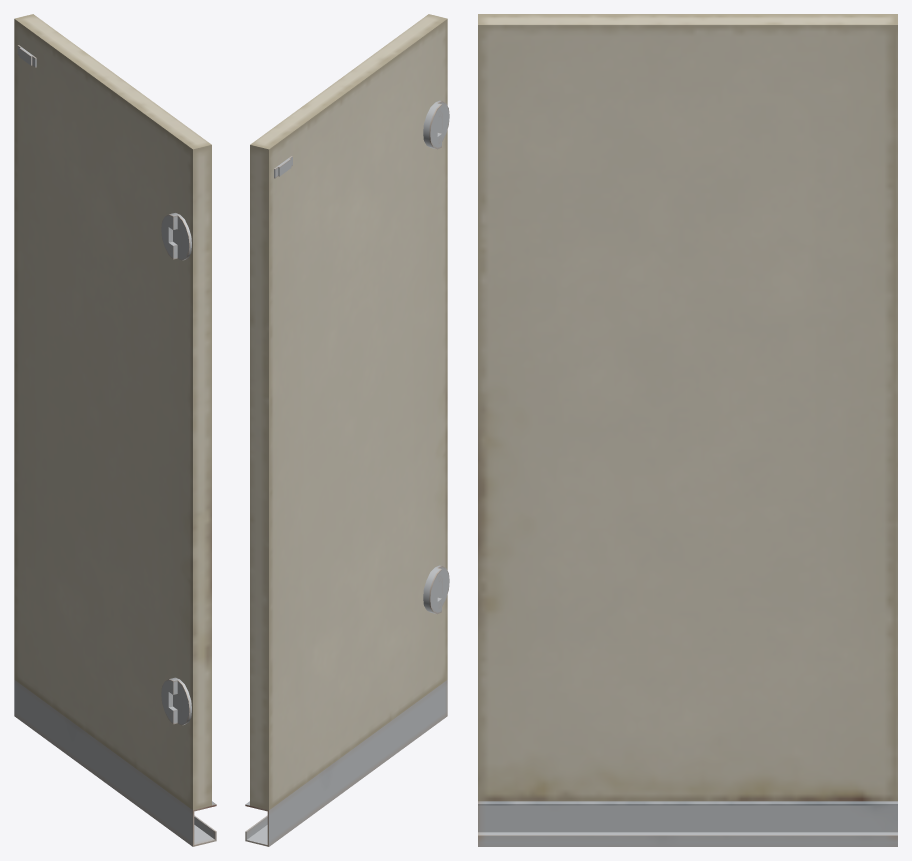
Rendered from FurnitureKicthen01_DoorUpLeft01.FBX.
The picture shows the model from 3 angles, left to right: view 1: azimuth 30°, elevation 25°; view 2: azimuth 150°, elevation 25°; view 3: azimuth 270°, elevation 25°; orthographic projection. The views are drawn at different scales.
Parts seen in each view (by area): view 1: FurnitureKicthen01_DoorUpLeft01; view 2: FurnitureKicthen01_DoorUpLeft01; view 3: FurnitureKicthen01_DoorUpLeft01.
Boxes of the visible parts, x1,y1,x2,y2 form: FurnitureKicthen01_DoorUpLeft01: (14,14,216,846); FurnitureKicthen01_DoorUpLeft01: (245,14,449,846); FurnitureKicthen01_DoorUpLeft01: (478,14,897,846).
Bounding box in the file's own units: 3.24 × 32.5 × 70.
